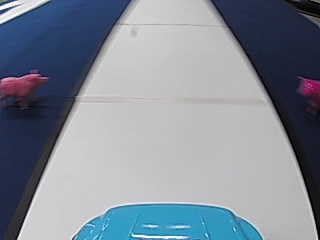pig: (2, 67, 46, 107)
